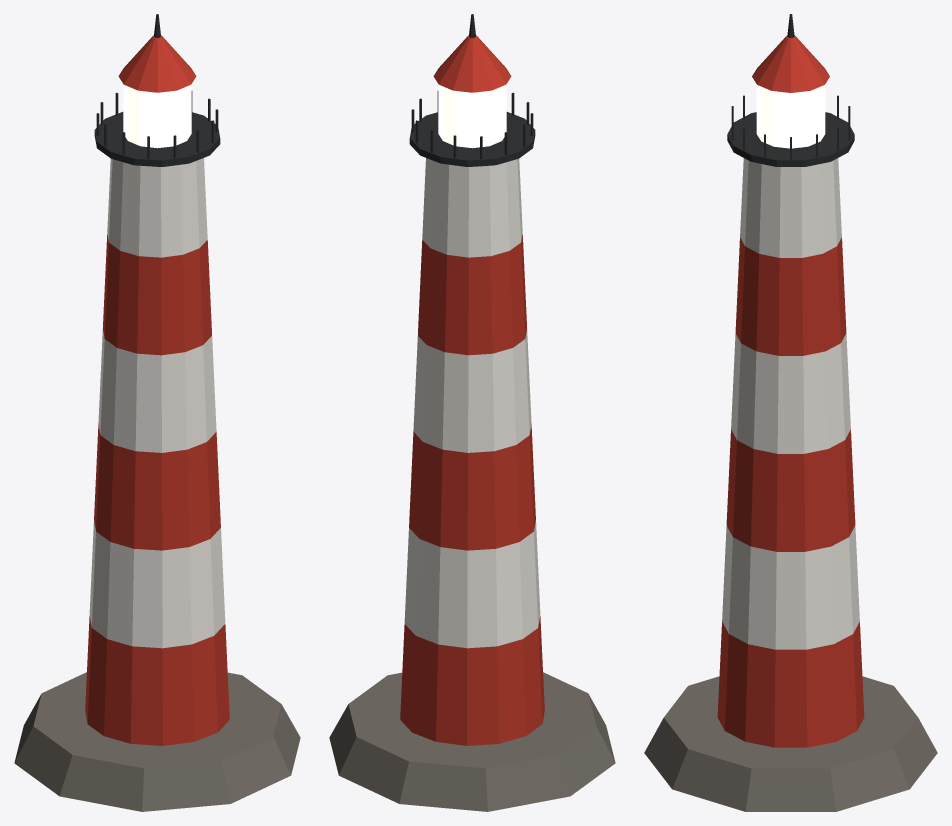
File: bld_bh_lighthouse.glb
The picture shows the model from 3 angles, left to right: view 1: azimuth 30°, elevation 25°; view 2: azimuth 150°, elevation 25°; view 3: azimuth 270°, elevation 25°; orthographic projection.
Parts seen in each view (by area): view 1: bld_bh_lighthouse; view 2: bld_bh_lighthouse; view 3: bld_bh_lighthouse.
Part boxes in pixels (bbox=[...]): bld_bh_lighthouse: bbox=[14, 14, 300, 811]; bld_bh_lighthouse: bbox=[329, 14, 615, 811]; bld_bh_lighthouse: bbox=[644, 14, 937, 811].
Size of what is drawn, in the model's own units: 11.41 by 33.3 by 12.
